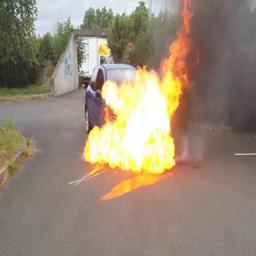fire: (82, 0, 193, 175)
